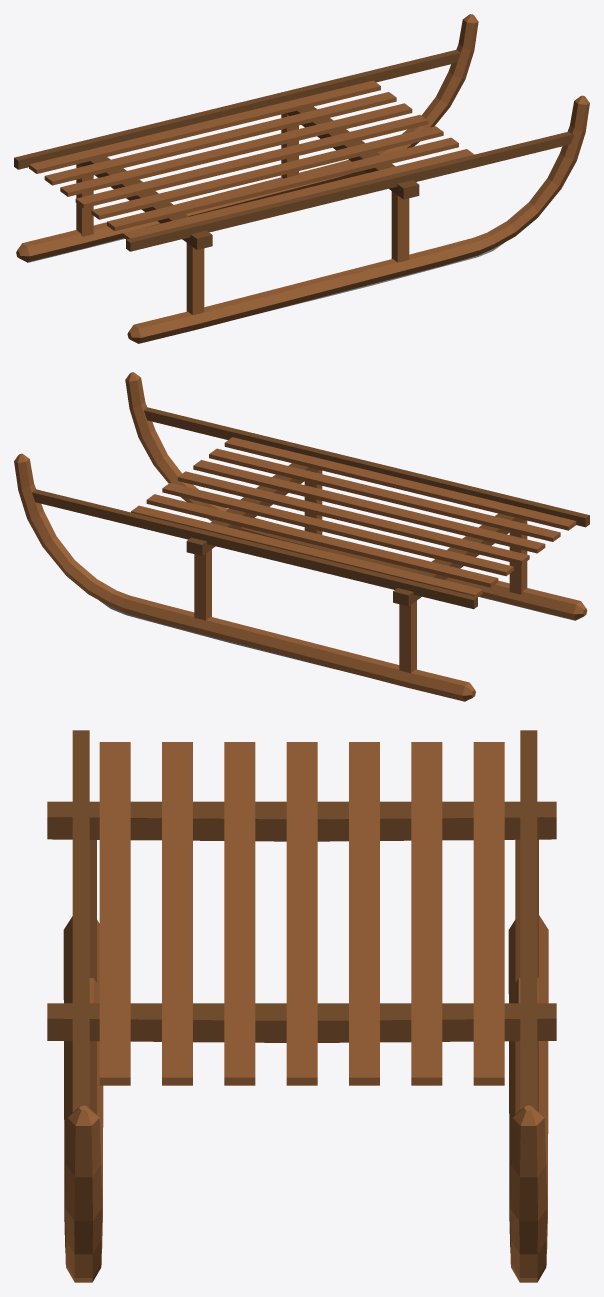
File: CUPIC_SLED.obj
3 views of the same model, one above another, from view 1: azimuth 30°, elevation 25°; view 2: azimuth 150°, elevation 25°; view 3: azimuth 270°, elevation 25° (orthographic). The views are drawn at different scales.
Bounding box in the file's own units: 767 × 219 × 367.
1 material, 1 textured.
